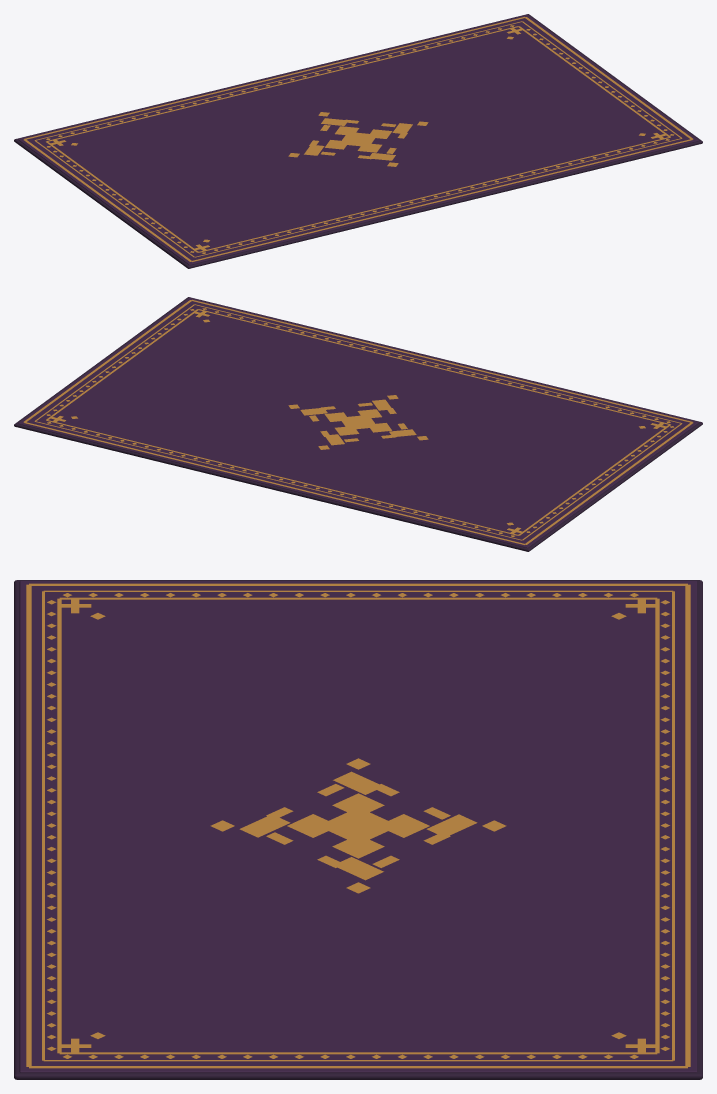
File: living-rug.glb
3 renders of one model, top to bottom at view 1: azimuth 30°, elevation 25°; view 2: azimuth 150°, elevation 25°; view 3: azimuth 270°, elevation 25°, orthographic. The views are drawn at different scales.
Visible parts, largest first — view 1: living_rug_pivot_Mesh; view 2: living_rug_pivot_Mesh; view 3: living_rug_pivot_Mesh.
Part boxes in pixels (x1,y1,x2,y2): living_rug_pivot_Mesh: (14,14,702,268); living_rug_pivot_Mesh: (14,297,702,551); living_rug_pivot_Mesh: (14,580,702,1079).
Size of the model in its own units: 6.9 by 0.0435 by 4.05.
